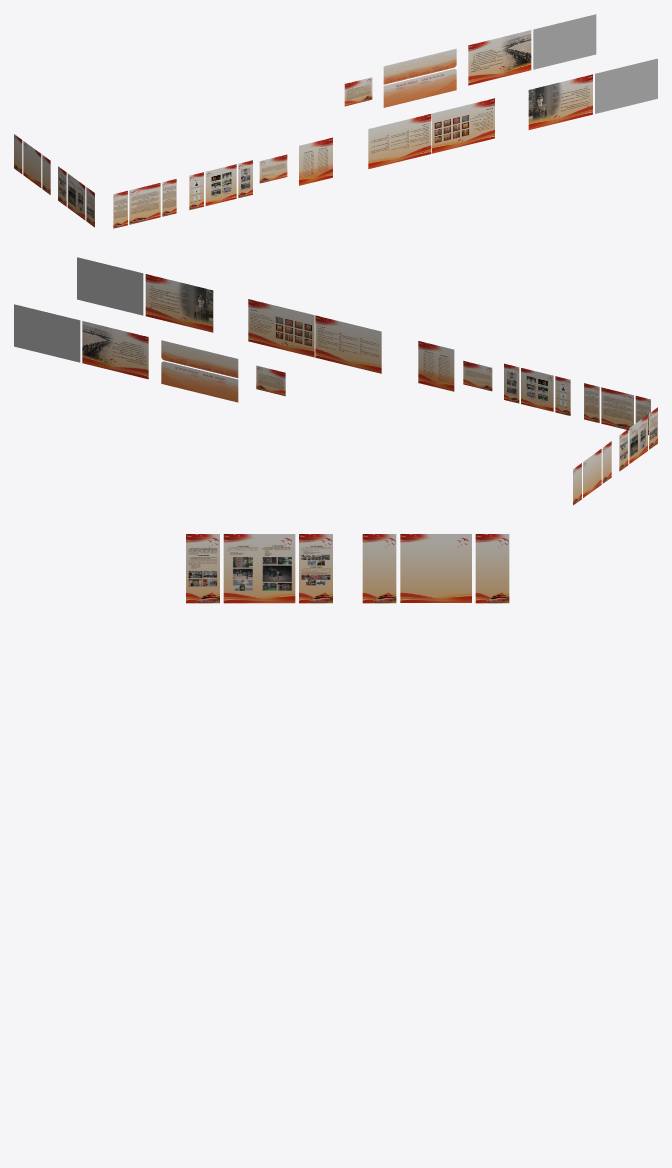
3 views of the same model, one above another, from view 1: azimuth 30°, elevation 25°; view 2: azimuth 150°, elevation 25°; view 3: azimuth 270°, elevation 25° (orthographic). The views are drawn at different scales.
Visible parts, largest first — view 1: 9中队_发展历程04, 9中队_发展历程01, 9中队_发展历程02, 9中队_历史荣誉02, 9中队_历史荣誉01, 9中队_发展历程03, 9中队_历史沿革下, 9中队_历史沿革上, 9中队_历任主官, 9中队_建设成就中, 9中队_重大任务中, 9中队_军营文化中 (+7 smaller); view 2: 9中队_发展历程04, 9中队_发展历程01, 9中队_发展历程02, 9中队_历史荣誉01, 9中队_历史荣誉02, 9中队_发展历程03, 9中队_历史沿革下, 9中队_历任主官, 9中队_历史沿革上, 9中队_重大任务中, 9中队_建设成就中, 9中队_前沿 (+6 smaller); view 3: 9中队_军营文化中, 9中队_官兵风采中, 9中队_官兵风采右, 9中队_官兵风采左, 9中队_军营文化右, 9中队_军营文化左.
Boxes of the visible parts, left/top/right/bottom form: 9中队_发展历程04: left=528, top=74, right=592, bottom=129; 9中队_发展历程01: left=468, top=30, right=531, bottom=85; 9中队_发展历程02: left=533, top=14, right=596, bottom=69; 9中队_历史荣誉02: left=368, top=114, right=431, bottom=169; 9中队_历史荣誉01: left=432, top=98, right=494, bottom=153; 9中队_发展历程03: left=595, top=58, right=657, bottom=113; 9中队_历史沿革下: left=383, top=69, right=456, bottom=107; 9中队_历史沿革上: left=383, top=48, right=456, bottom=84; 9中队_历任主官: left=299, top=137, right=332, bottom=185; 9中队_建设成就中: left=129, top=183, right=160, bottom=224; 9中队_重大任务中: left=205, top=164, right=236, bottom=205; 9中队_军营文化中: left=67, top=173, right=85, bottom=220; 9中队_发展历程04: left=145, top=274, right=213, bottom=332; 9中队_发展历程01: left=82, top=321, right=148, bottom=379; 9中队_发展历程02: left=14, top=304, right=80, bottom=362; 9中队_历史荣誉01: left=248, top=299, right=314, bottom=357; 9中队_历史荣誉02: left=315, top=315, right=381, bottom=373; 9中队_发展历程03: left=77, top=257, right=143, bottom=315; 9中队_历史沿革下: left=161, top=361, right=238, bottom=402; 9中队_历任主官: left=418, top=341, right=454, bottom=391; 9中队_历史沿革上: left=161, top=340, right=238, bottom=378; 9中队_重大任务中: left=521, top=368, right=553, bottom=411; 9中队_建设成就中: left=601, top=387, right=633, bottom=430; 9中队_前沿: left=256, top=365, right=285, bottom=396; 9中队_军营文化中: left=223, top=534, right=295, bottom=603; 9中队_官兵风采中: left=400, top=534, right=471, bottom=602; 9中队_官兵风采右: left=475, top=534, right=509, bottom=603; 9中队_官兵风采左: left=362, top=534, right=396, bottom=603; 9中队_军营文化右: left=299, top=534, right=332, bottom=603; 9中队_军营文化左: left=186, top=534, right=219, bottom=603.
Bounding box in the file's own units: 2790 × 200 × 751.
